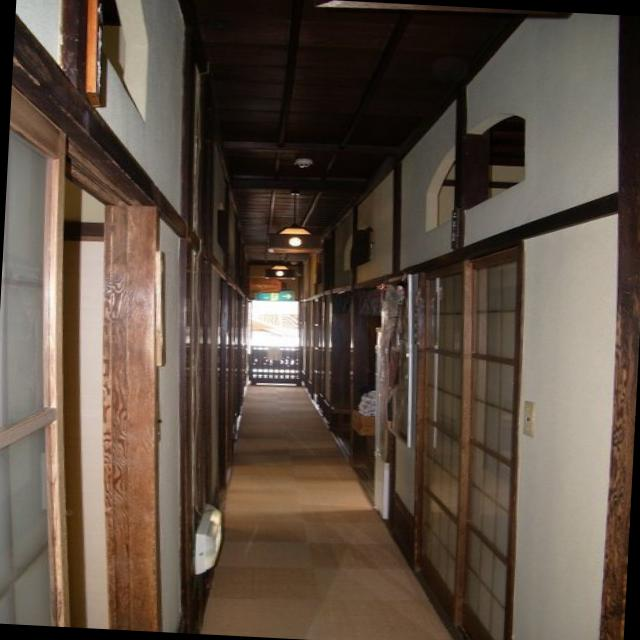ceiling vent: (265, 188, 326, 256)
door bars: (249, 261, 305, 378)
floor -X: (201, 383, 457, 640)
light switch: (522, 406, 540, 438)
shoji screen: (407, 225, 523, 640)
smoke detector: (291, 155, 318, 170)
wall clock: (302, 11, 640, 640)
